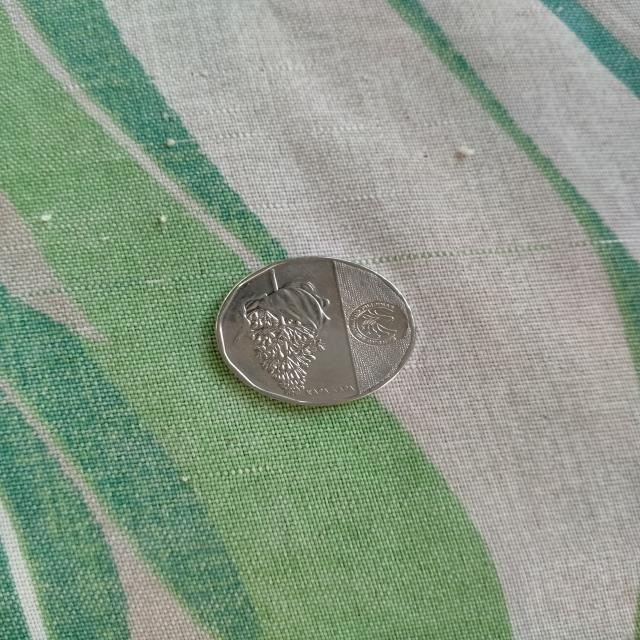10_New_Back: (230, 258, 337, 394)
